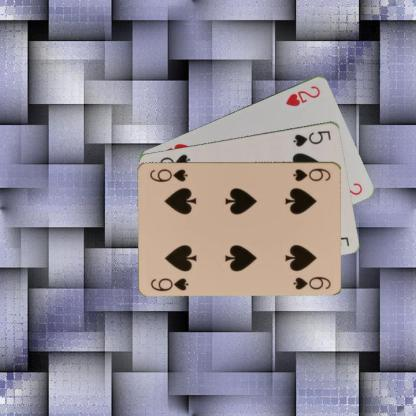2h: (283, 82, 322, 107)
5s: (291, 128, 332, 148)
6s: (149, 275, 190, 292), (291, 166, 332, 182)
